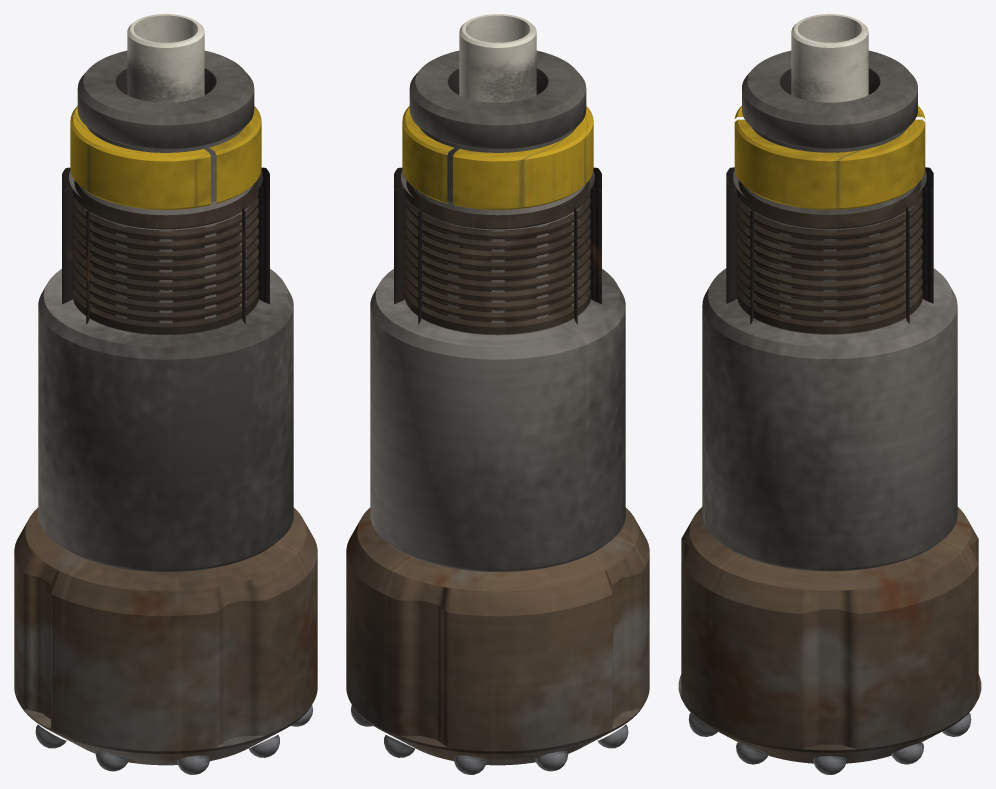
Rendered from SM_Bit_6_1_2po_AvecChuck.glb.
3 views of the same model, side by side, from view 1: azimuth 30°, elevation 25°; view 2: azimuth 150°, elevation 25°; view 3: azimuth 270°, elevation 25° (orthographic).
Parts seen in each view (by area): view 1: Bit_6_1_2po_AvecChuck_Chuck, Bit_6_1_2po_AvecChuck_Bit, Bit_6_1_2po_AvecChuck_Anneaux, Bit_6_1_2po_AvecChuck_TubeDePied, Bit_6_1_2po_AvecChuck_Boutons; view 2: Bit_6_1_2po_AvecChuck_Chuck, Bit_6_1_2po_AvecChuck_Bit, Bit_6_1_2po_AvecChuck_Anneaux, Bit_6_1_2po_AvecChuck_TubeDePied, Bit_6_1_2po_AvecChuck_Boutons; view 3: Bit_6_1_2po_AvecChuck_Chuck, Bit_6_1_2po_AvecChuck_Bit, Bit_6_1_2po_AvecChuck_Anneaux, Bit_6_1_2po_AvecChuck_TubeDePied, Bit_6_1_2po_AvecChuck_Boutons.
Boxes of the visible parts, x1,y1,x2,y2 form: Bit_6_1_2po_AvecChuck_Chuck: [38, 167, 293, 571]; Bit_6_1_2po_AvecChuck_Bit: [14, 50, 317, 765]; Bit_6_1_2po_AvecChuck_Anneaux: [70, 106, 261, 209]; Bit_6_1_2po_AvecChuck_TubeDePied: [127, 14, 204, 102]; Bit_6_1_2po_AvecChuck_Boutons: [35, 705, 312, 774]; Bit_6_1_2po_AvecChuck_Chuck: [370, 167, 625, 571]; Bit_6_1_2po_AvecChuck_Bit: [346, 50, 649, 765]; Bit_6_1_2po_AvecChuck_Anneaux: [402, 106, 593, 209]; Bit_6_1_2po_AvecChuck_TubeDePied: [459, 14, 536, 102]; Bit_6_1_2po_AvecChuck_Boutons: [351, 705, 628, 774]; Bit_6_1_2po_AvecChuck_Chuck: [702, 167, 957, 571]; Bit_6_1_2po_AvecChuck_Bit: [678, 50, 981, 763]; Bit_6_1_2po_AvecChuck_Anneaux: [734, 106, 925, 209]; Bit_6_1_2po_AvecChuck_TubeDePied: [791, 14, 868, 102]; Bit_6_1_2po_AvecChuck_Boutons: [688, 713, 971, 774].
Bounding box in the file's own units: 0.1651 × 0.4217 × 0.1651.
5 materials, 5 textured.
